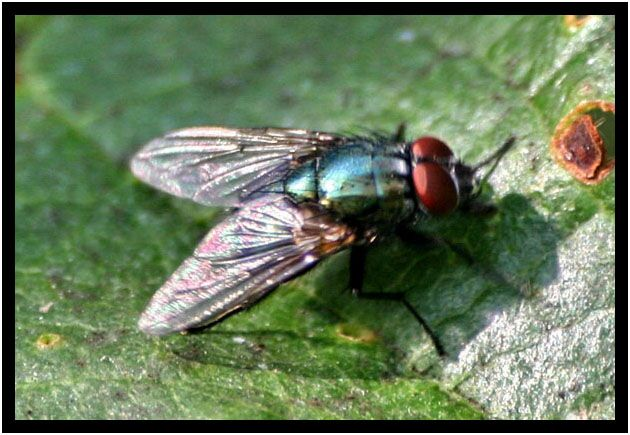green bottles flies: (104, 80, 522, 378)
